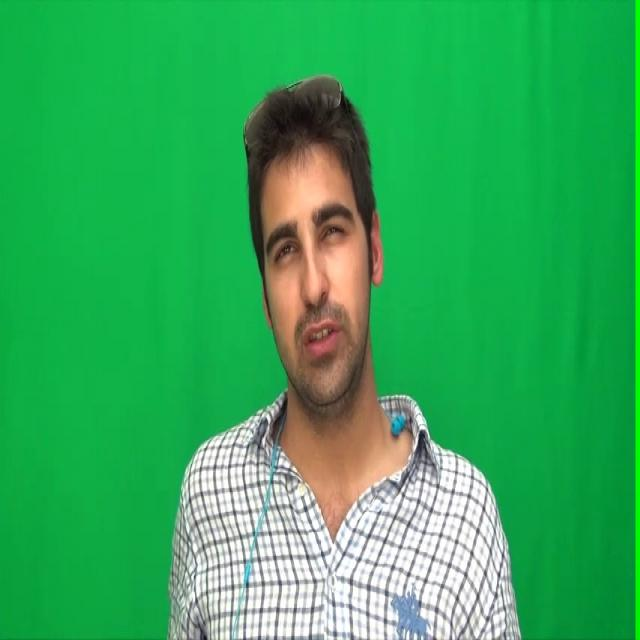Engaged: (259, 151, 368, 404)
